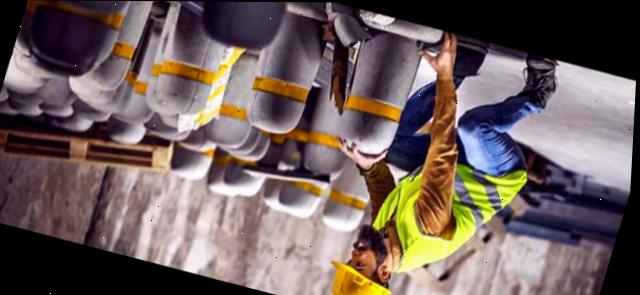helmet: (319, 254, 403, 295)
vest: (357, 136, 538, 295)
